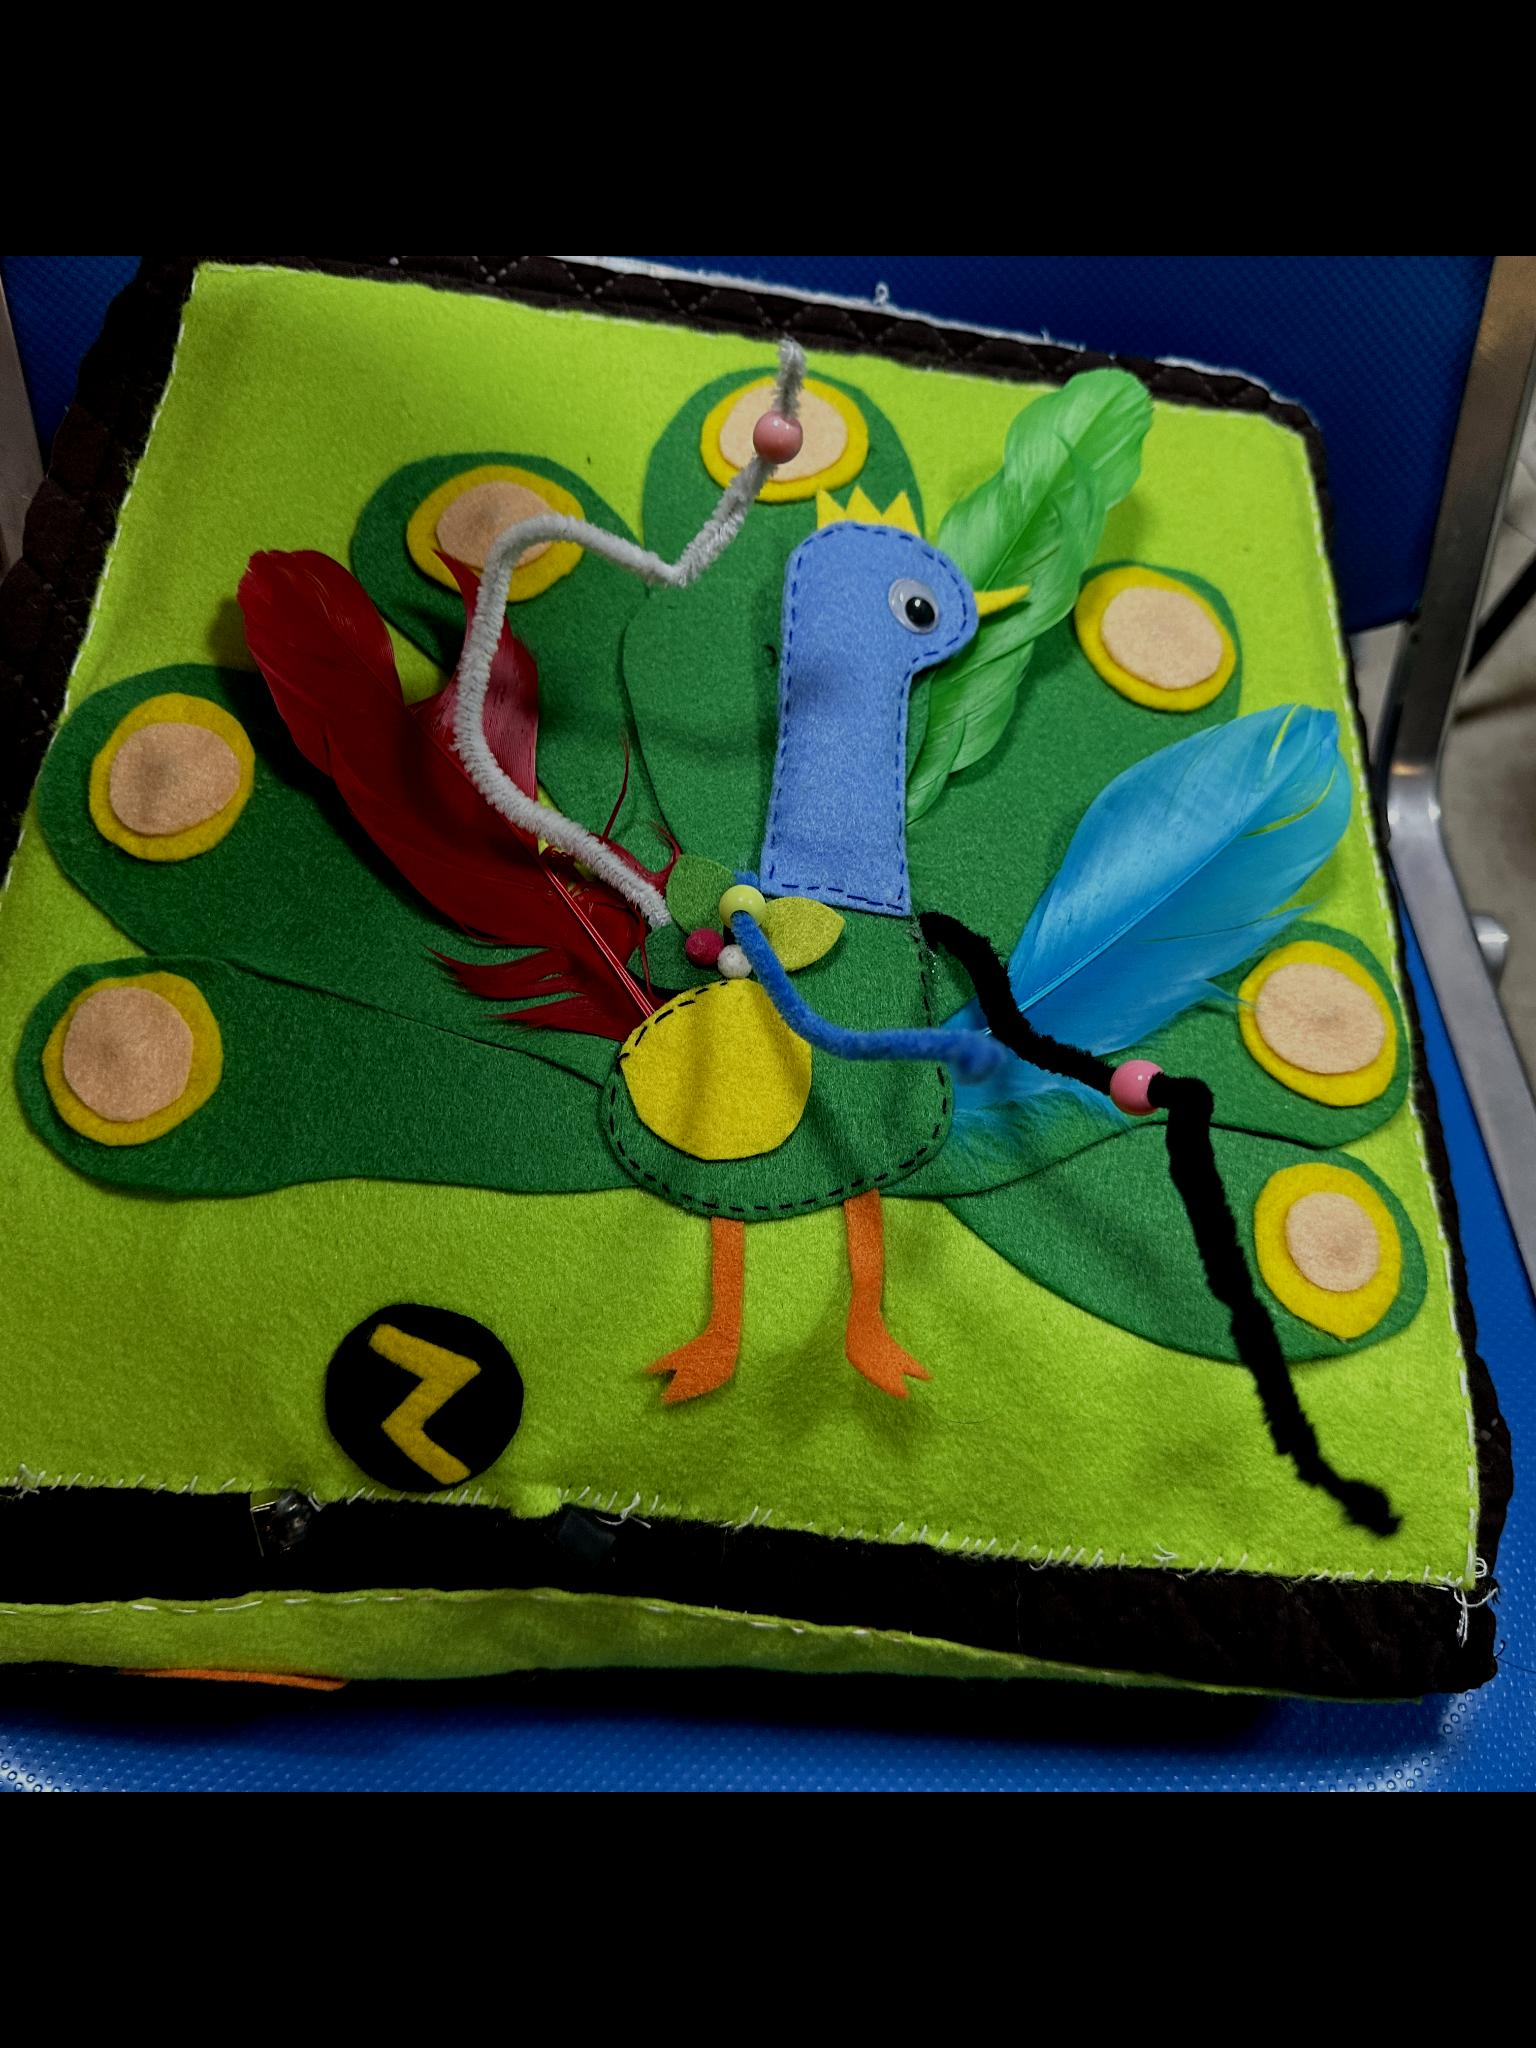bead: (1087, 1027, 1175, 1142), (728, 398, 816, 472), (702, 871, 784, 939)
